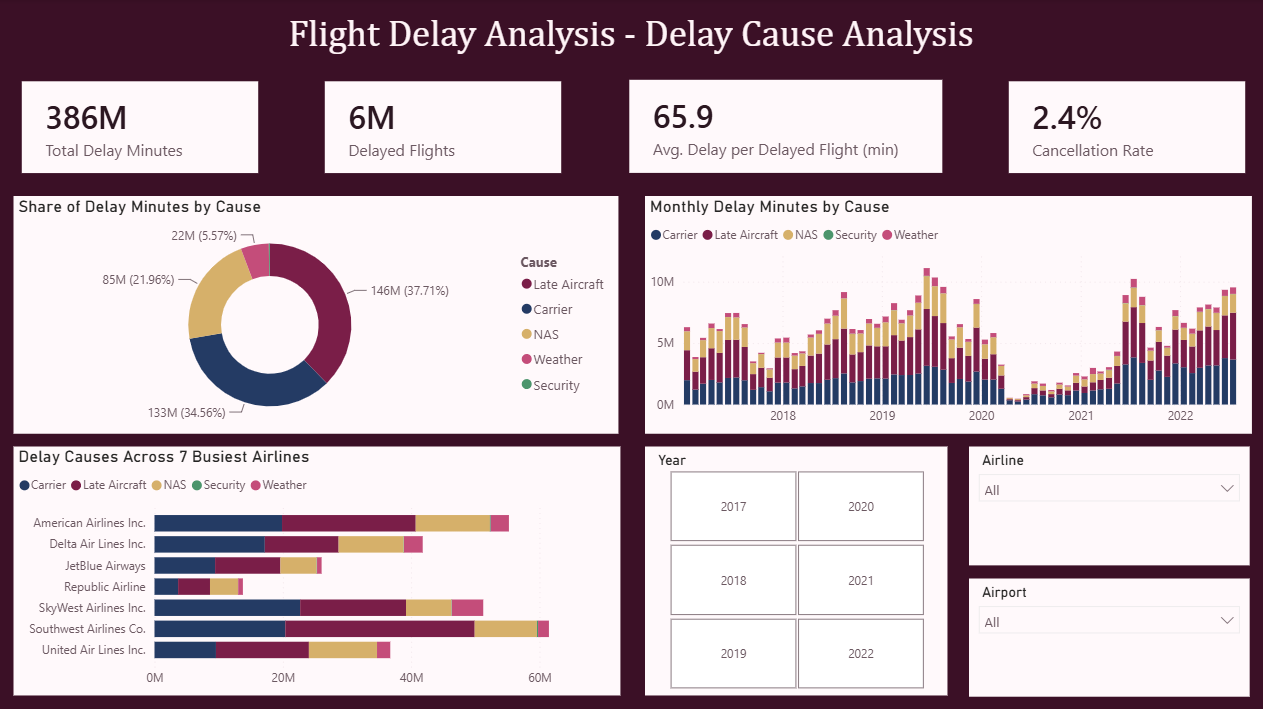

The dashboard page shown, as its layout file describes it:
{"tool":"powerbi","page":{"name":"Delay Cause Analysis","canvas":[1280,720],"ordinal":3},"visuals":[{"type":"textbox","box":[0,8.1,1280,56.7],"z":0},{"type":"slicer","fields":{"Values":["airline.year"]},"box":[653.7,453.3,305.4,251.3],"z":1000},{"type":"slicer","fields":{"Values":["airline.carrier_name"]},"box":[981.4,453.3,283.1,120],"z":2000},{"type":"slicer","fields":{"Values":["airline.airport_name"]},"box":[981.4,585.3,283.1,119.3],"z":3000},{"type":"donutChart","title":"Share of Delay Minutes by Cause","fields":{"Category":["Delay Causes.Cause"],"Y":["Delay Causes.Delay Minutes by Cause"]},"box":[15.9,200.4,610.8,240.2],"z":4000},{"type":"columnChart","title":"Monthly Delay Minutes by Cause","fields":{"Y":["Delay Causes.Delay Minutes by Cause"],"Series":["Delay Causes.Cause"],"Category":["airline.MonthDate"]},"box":[653.7,200.4,612.4,240.2],"z":5000},{"type":"barChart","title":"Delay Causes Across 7 Busiest Airlines","fields":{"Category":["airline.carrier_name"],"Y":["Delay Causes.Delay Minutes by Cause"],"Series":["Delay Causes.Cause"]},"box":[15.9,453.3,612.4,251.3],"z":6000},{"type":"cardVisual","fields":{"Data":["airline.Total Delay Minutes"]},"box":[19.1,78,249.7,103.4],"z":7000},{"type":"cardVisual","fields":{"Data":["airline.Delayed Flights"]},"box":[326.1,78,249.7,103.4],"z":8000},{"type":"cardVisual","fields":{"Data":["airline.Cancellation Rate"]},"box":[1016.4,78,249.7,103.4],"z":9000},{"type":"cardVisual","fields":{"Data":["airline.Average Delay per Delayed Flight"]},"box":[633.1,77.7,326.1,104],"z":10000}]}

Visuals, with their boxes in screenshot pixels (x1, y1, x2, y2), scaled from the page's 1280x720 canvas onto the 1263x709 screenshot:
textbox: [0,8,1262,64]
slicer - airline.year: [645,446,946,694]
slicer - airline.carrier_name: [968,446,1248,565]
slicer - airline.airport_name: [968,576,1248,694]
"Share of Delay Minutes by Cause" donutChart: [16,197,618,434]
"Monthly Delay Minutes by Cause" columnChart: [645,197,1249,434]
"Delay Causes Across 7 Busiest Airlines" barChart: [16,446,620,694]
cardVisual - airline.Total Delay Minutes: [19,77,265,179]
cardVisual - airline.Delayed Flights: [322,77,568,179]
cardVisual - airline.Cancellation Rate: [1003,77,1249,179]
cardVisual - airline.Average Delay per Delayed Flight: [625,77,946,179]
